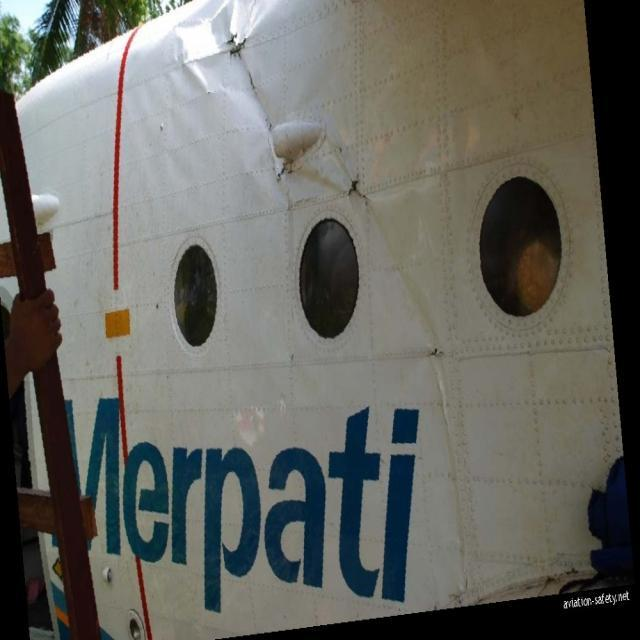crack: (222, 29, 262, 98), (345, 171, 374, 208), (427, 347, 451, 368)
dent: (175, 2, 273, 108), (264, 142, 345, 206)
